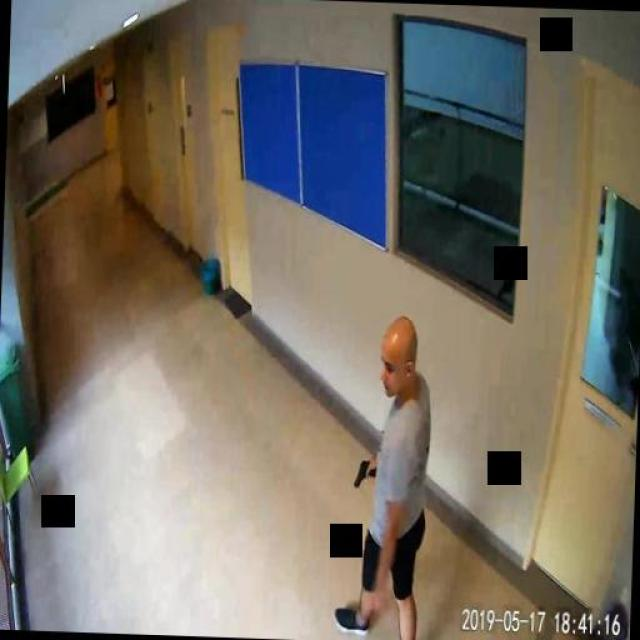gun: (351, 456, 375, 486)
